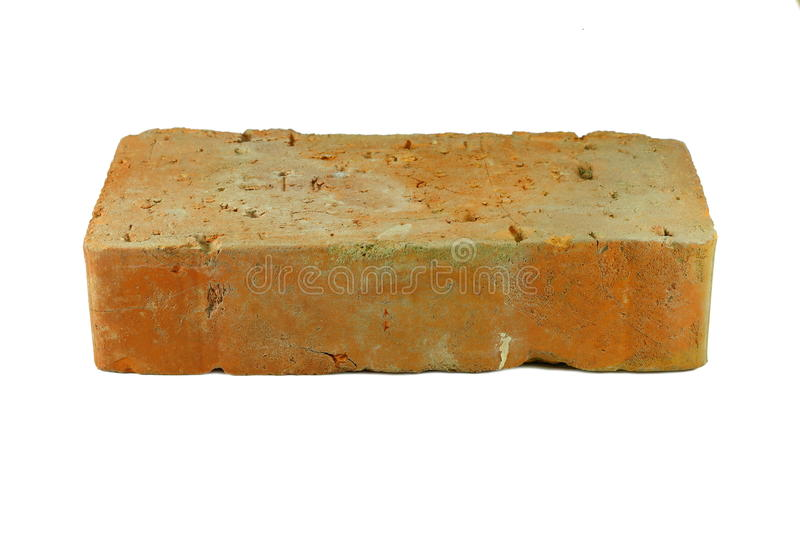brick: (119, 138, 704, 367)
